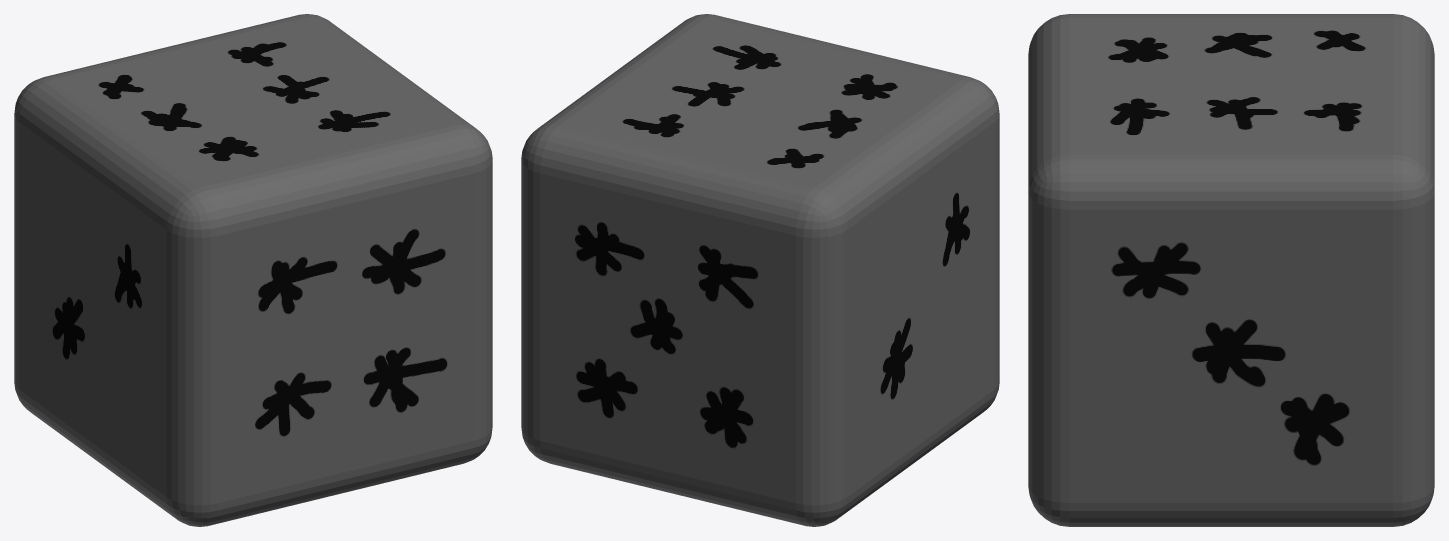
Rendered from dice1.glb.
3 renders of one model, left to right at view 1: azimuth 30°, elevation 25°; view 2: azimuth 150°, elevation 25°; view 3: azimuth 270°, elevation 25°, orthographic. The views are drawn at different scales.
Parts seen in each view (by area): view 1: Cube; view 2: Cube; view 3: Cube.
Boxes of the visible parts, x1,y1,x2,y2 form: Cube: (14, 14, 492, 526); Cube: (521, 14, 999, 526); Cube: (1028, 14, 1434, 526).
Bounding box in the file's own units: 2 × 2 × 2.
1 material, 1 textured.
